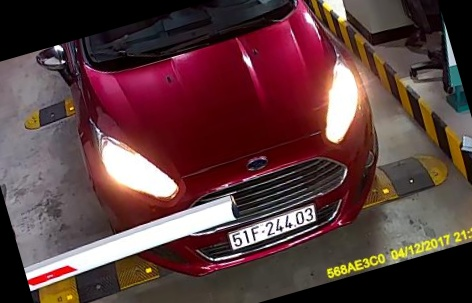plate: (228, 206, 318, 254)
